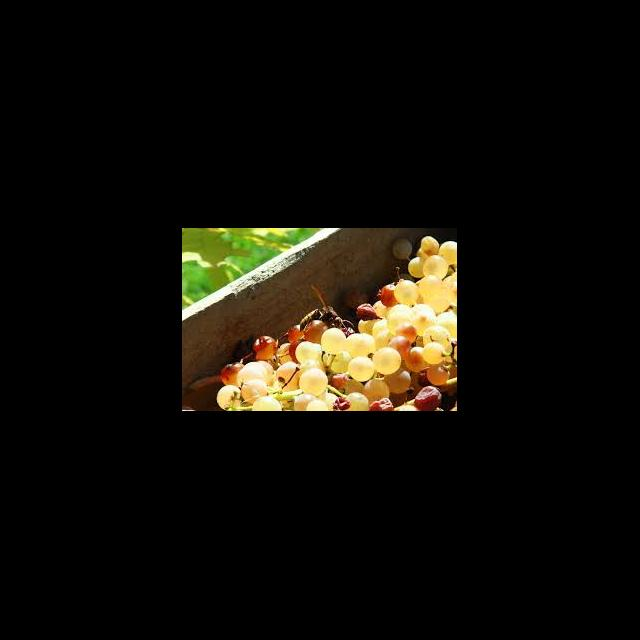grape: (216, 235, 456, 410)
